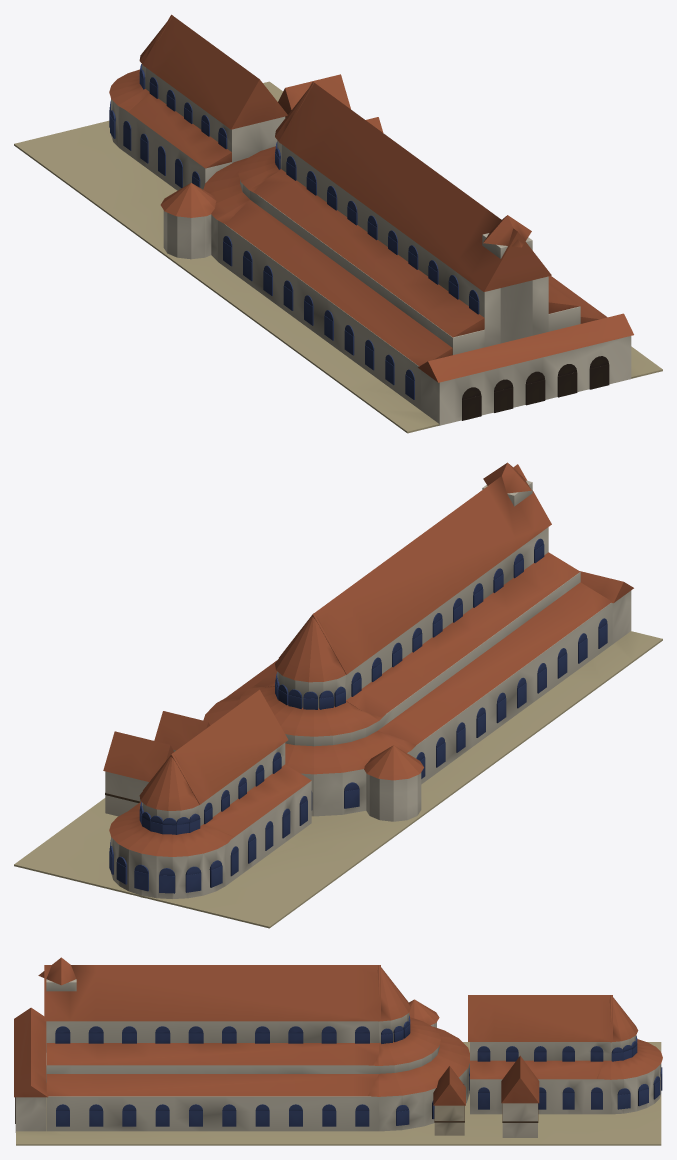
The model's file is saint-etienne.glb.
The picture shows the model from 3 angles, top to bottom: view 1: azimuth 30°, elevation 25°; view 2: azimuth 150°, elevation 25°; view 3: azimuth 270°, elevation 25°; orthographic projection. The views are drawn at different scales.
Parts seen in each view (by area): view 1: p1_roofs, p0_walls, p2_old church; view 2: p1_roofs, p0_walls, p2_old church; view 3: p1_roofs, p0_walls, p2_old church.
Part boxes in pixels (left/top/right/bottom): p1_roofs: left=203, top=81, right=633, bottom=425; p0_walls: left=14, top=81, right=662, bottom=433; p2_old church: left=109, top=14, right=383, bottom=259; p1_roofs: left=203, top=462, right=633, bottom=774; p0_walls: left=14, top=527, right=662, bottom=928; p2_old church: left=103, top=689, right=423, bottom=898; p1_roofs: left=14, top=957, right=469, bottom=1132; p0_walls: left=16, top=1013, right=661, bottom=1145; p2_old church: left=409, top=995, right=662, bottom=1137.
Bounding box in the file's own units: 48 × 30.05 × 129.
